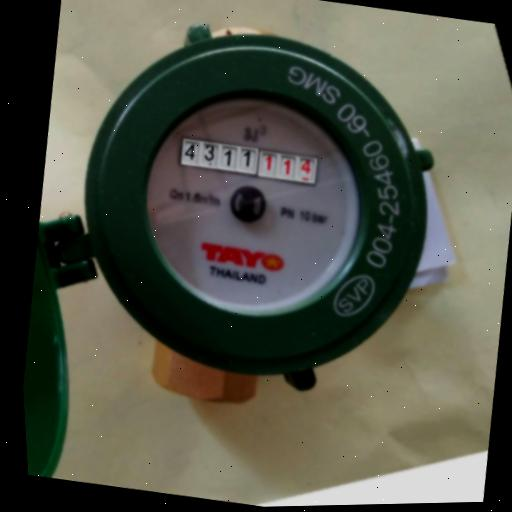1: (258, 152, 277, 174), (238, 148, 256, 171), (218, 146, 236, 168), (278, 155, 296, 177)
3: (200, 143, 218, 166)
4: (295, 158, 314, 181), (181, 140, 199, 164)
border_water_meter_number: (175, 132, 320, 189)
